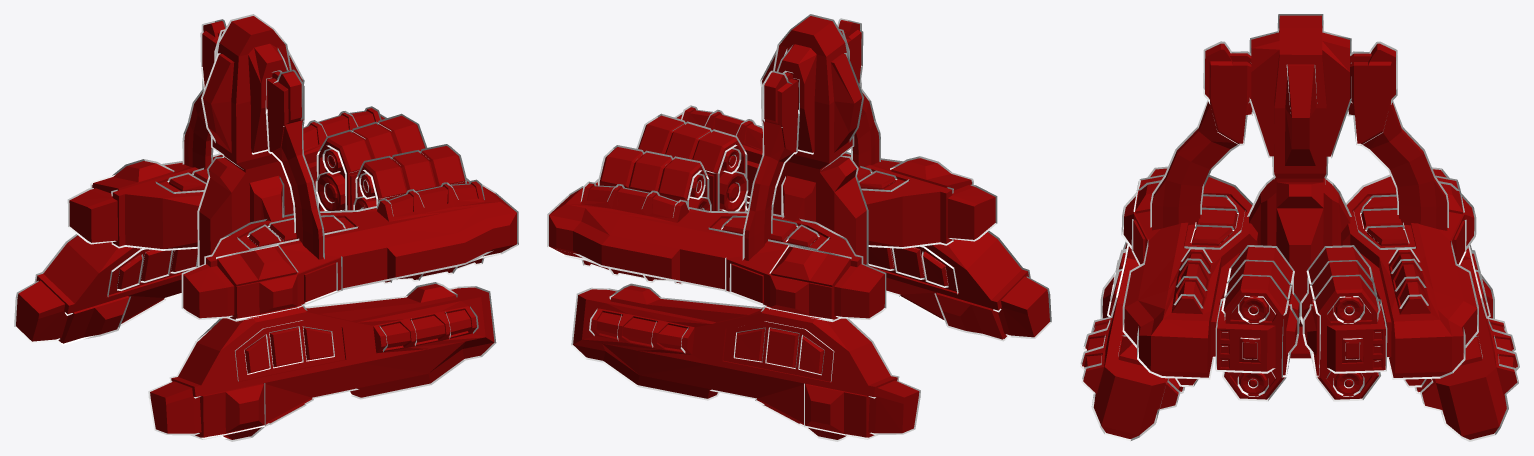
The model's file is ship5.glb.
The picture shows the model from 3 angles, left to right: view 1: azimuth 30°, elevation 25°; view 2: azimuth 150°, elevation 25°; view 3: azimuth 270°, elevation 25°; orthographic projection. The views are drawn at different scales.
Parts seen in each view (by area): view 1: ME_ship_IndexedFaceSet; view 2: ME_ship_IndexedFaceSet; view 3: ME_ship_IndexedFaceSet.
Boxes of the visible parts, x1,y1,x2,y2 form: ME_ship_IndexedFaceSet: (14, 14, 518, 441); ME_ship_IndexedFaceSet: (547, 14, 1051, 441); ME_ship_IndexedFaceSet: (1080, 14, 1519, 441).
Bounding box in the file's own units: 431 × 383 × 402.
